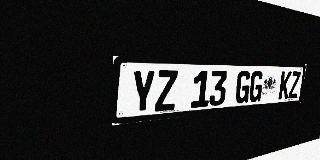1: (191, 70, 211, 108)
3: (209, 71, 227, 106)
G: (234, 71, 251, 104), (248, 71, 264, 102)
K: (278, 71, 292, 99)
Y: (130, 70, 156, 114)
Z: (155, 70, 178, 112), (288, 71, 301, 98)
